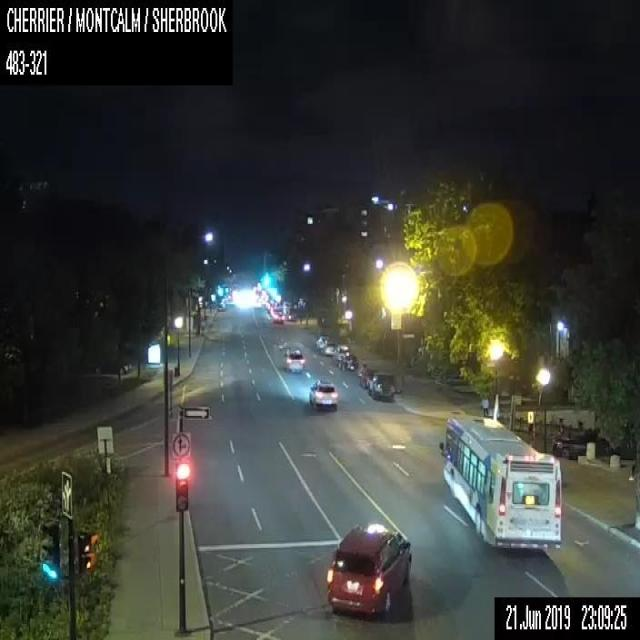bus: (440, 410, 563, 550)
pedestrian: (479, 394, 489, 414)
vehicle: (325, 523, 413, 617), (552, 429, 609, 458), (368, 372, 396, 402), (309, 378, 336, 408), (282, 347, 306, 372), (92, 359, 130, 374), (357, 362, 379, 386), (337, 353, 355, 372), (332, 344, 348, 364), (314, 331, 328, 351), (320, 338, 335, 354), (270, 308, 283, 322), (284, 306, 296, 320), (282, 300, 291, 312), (216, 300, 225, 310), (298, 298, 306, 308)
